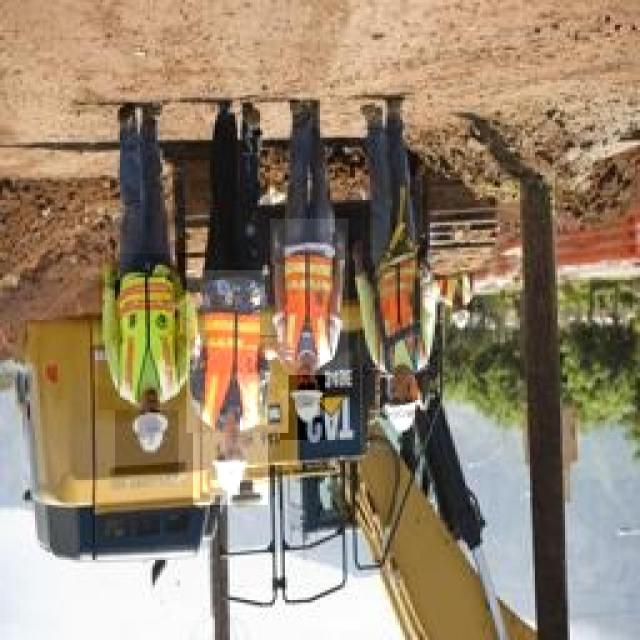Helmet: (115, 384, 179, 475), (194, 430, 268, 505), (375, 372, 427, 449), (280, 366, 325, 440)
Safety Vest: (186, 270, 288, 433), (98, 253, 202, 410), (360, 210, 438, 375), (270, 219, 348, 375)
